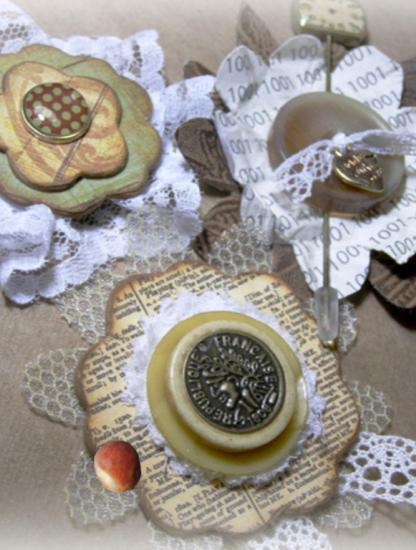Peach: (92, 440, 146, 494)
